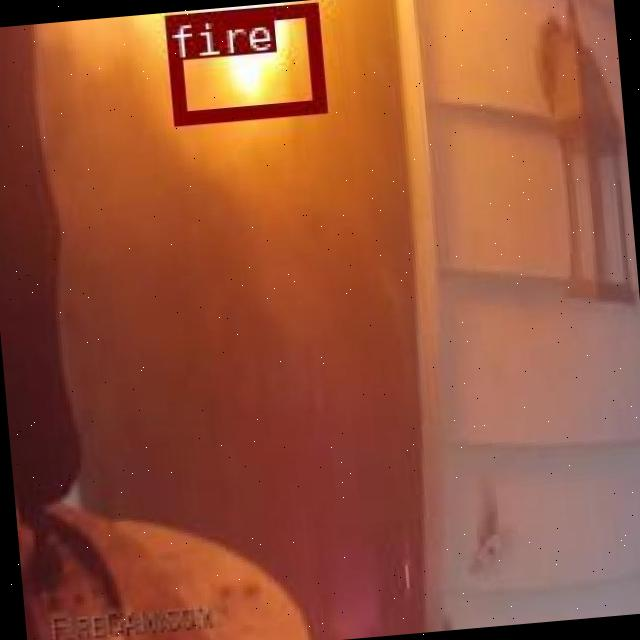fire: (163, 0, 324, 123)
